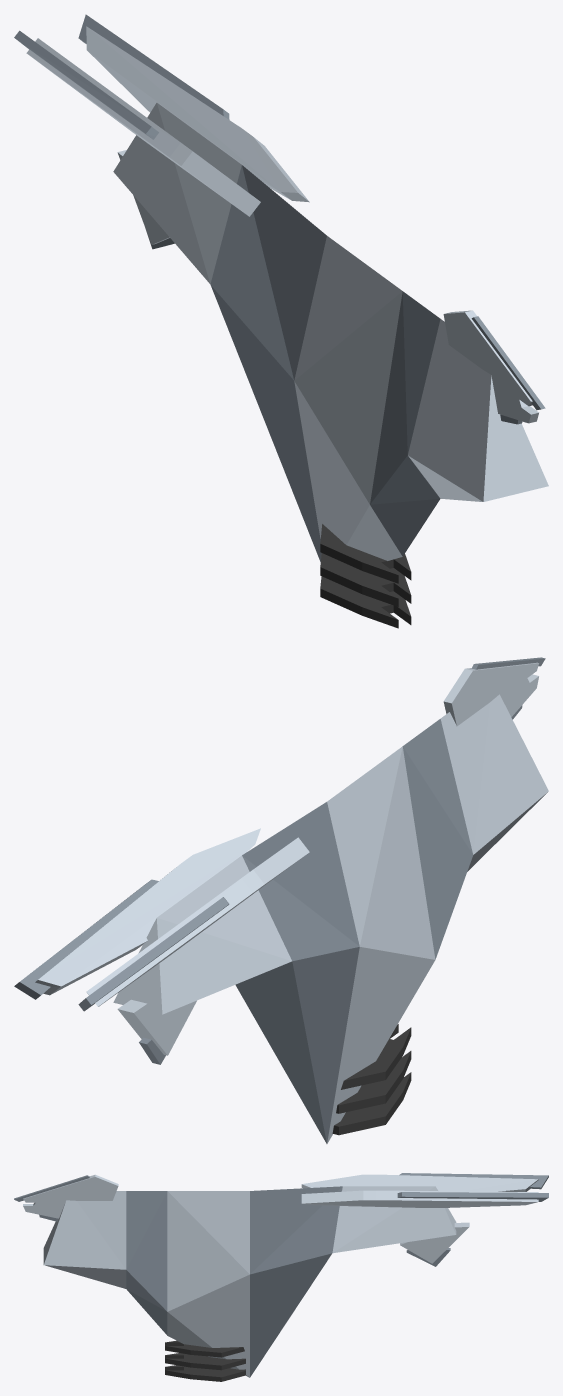
The model's file is Ship.FBX.
3 renders of one model, top to bottom at view 1: azimuth 30°, elevation 25°; view 2: azimuth 150°, elevation 25°; view 3: azimuth 270°, elevation 25°, orthographic. The views are drawn at different scales.
Parts seen in each view (by area): view 1: VIFS002, VIFS001, VIFS003; view 2: VIFS002, VIFS001, VIFS003; view 3: VIFS002, VIFS001, VIFS003.
Boxes of the visible parts, box(x1,y1,x2,y2) form: VIFS002: box(26, 26, 548, 560); VIFS001: box(14, 14, 545, 561); VIFS003: box(320, 524, 411, 628); VIFS002: box(35, 662, 548, 1143); VIFS001: box(14, 657, 545, 1143); VIFS003: box(332, 1024, 411, 1135); VIFS002: box(23, 1174, 538, 1377); VIFS001: box(14, 1173, 548, 1377); VIFS003: box(165, 1340, 245, 1381).
Bounding box in the file's own units: 0.1936 × 0.8228 × 1.97.
